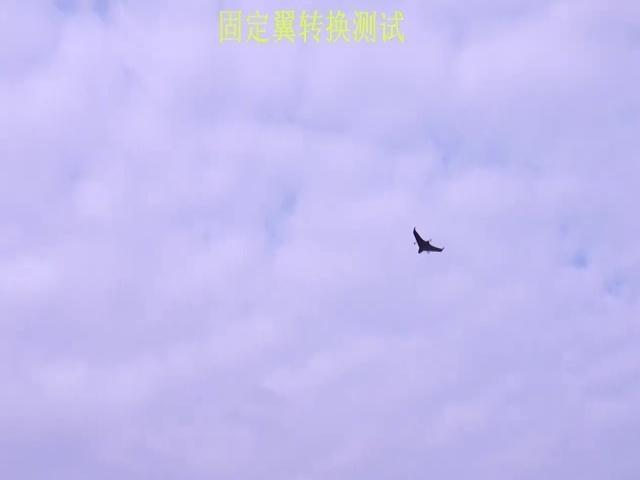Airplane: (412, 227, 444, 254)
